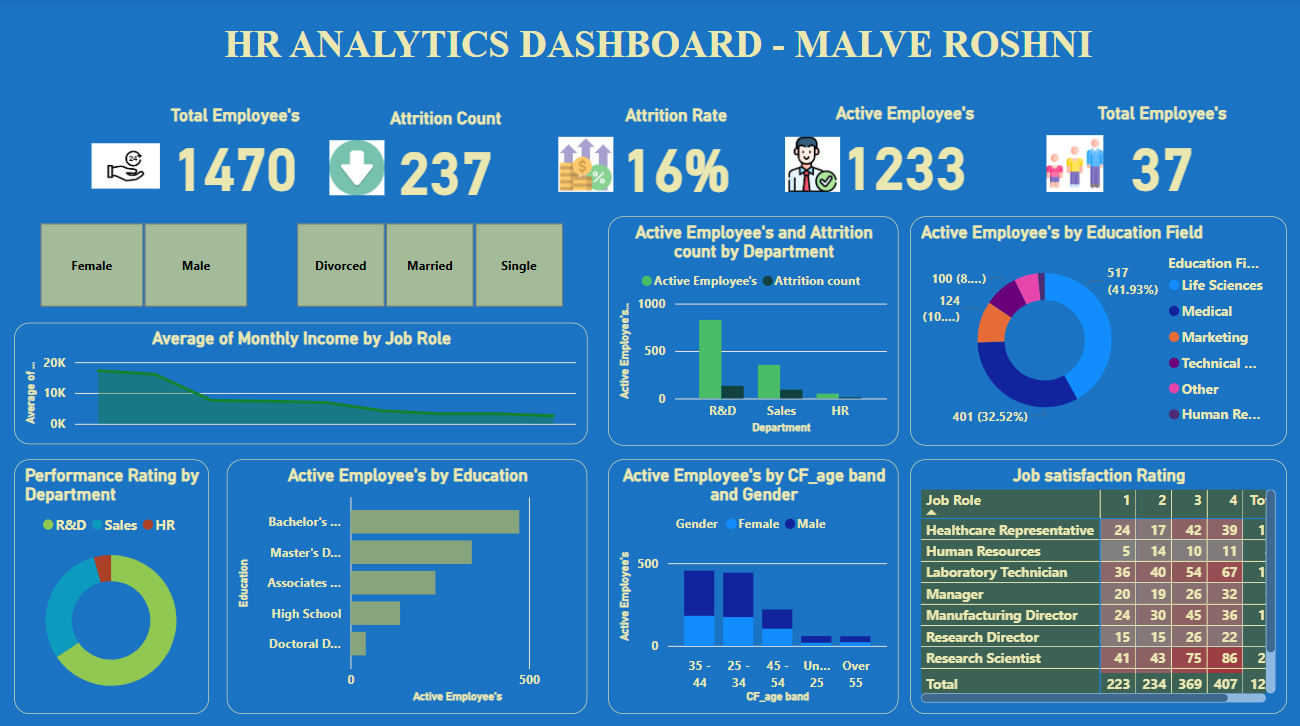

What the dashboard file says about the page in this screenshot:
{"tool":"powerbi","page":{"name":"Page 1","canvas":[1280,720],"ordinal":0},"visuals":[{"type":"card","title":"Total Employee''s","fields":{"Values":["HR data.Total Employee's"]},"box":[138.5,105.7,184.9,93.4],"z":0,"group":"g1"},{"type":"clusteredColumnChart","fields":{"Y":["HR data.Active Employee's","HR data.Attrition count"],"Category":["HR data.Department"]},"box":[597,214.7,284.6,224.3],"z":0},{"type":"card","title":"Attrition Count","fields":{"Values":["HR data.Attrition count"]},"box":[348.6,108.4,177.5,95.3],"z":1000,"group":"g1"},{"type":"donutChart","fields":{"Y":["HR data.Active Employee's"],"Category":["HR data.Education Field"]},"box":[892.5,214.7,369,224.3],"z":1000},{"type":"card","title":"Total Employee''s","fields":{"Values":["Avg(HR data.Age)"]},"box":[1046.3,103.9,186,96.1],"z":2000,"group":"g1"},{"type":"columnChart","fields":{"Y":["HR data.Active Employee's"],"Category":["HR data.CF_age band"],"Series":["HR data.Gender"]},"box":[597,453.5,284.6,249.6],"z":2000},{"type":"card","title":"Active Employee''s","fields":{"Values":["HR data.Active Employee's"]},"box":[795.1,103.9,184.7,94.9],"z":3000,"group":"g1"},{"type":"pivotTable","title":"Job satisfaction Rating","fields":{"Values":["HR data.Active Employee's"],"Rows":["HR data.Job Role"],"Columns":["HR data.Job Satisfaction"]},"box":[892.5,453.5,369,249.6],"z":3000},{"type":"card","title":"Attrition Rate","fields":{"Values":["HR data.Attrition Rate"]},"box":[558.9,105.9,209.2,95.3],"z":4000,"group":"g1"},{"type":"donutChart","title":"Performance Rating by Department","fields":{"Y":["Sum(HR data.Performance Rating)"],"Category":["HR data.Department"]},"box":[14.5,453.5,190.6,249.6],"z":4000},{"type":"clusteredBarChart","fields":{"Y":["HR data.Active Employee's"],"Category":["HR data.Education"]},"box":[223.1,453.5,353.4,249.6],"z":5000},{"type":"areaChart","fields":{"Category":["HR data.Job Role"],"Y":["Avg(HR data.Monthly Income)"]},"box":[14.5,319.6,562,119.4],"z":6000},{"type":"slicer","fields":{"Values":["HR data.Gender"]},"box":[14.5,214.7,252.1,95.3],"z":7000},{"type":"slicer","fields":{"Values":["HR data.Marital Status"]},"box":[266.5,214.7,309.9,95.3],"z":8000},{"type":"group","id":"g1","title":"Group 1","box":[138.5,103.9,1093.8,99.7],"z":9000},{"type":"image","box":[85.9,127,76.6,76.6],"z":10000},{"type":"image","box":[312,136.4,76.6,63.5],"z":11000},{"type":"image","box":[538,132.6,74.7,63.5],"z":12000},{"type":"image","box":[758.4,132.6,76.6,63.5],"z":13000},{"type":"image","box":[1016.2,130.8,74.7,65.4],"z":14000},{"type":"textbox","box":[28.9,20.5,1232.6,60.3],"z":15000}]}

Visuals, with their boxes in screenshot pixels (x1, y1, x2, y2), scaled from the page's 1280x720 canvas onto the 1300x726 screenshot:
"Total Employee''s" card: [141,107,328,201]
clusteredColumnChart - HR data.Active Employee's x HR data.Attrition count: [606,216,895,443]
"Attrition Count" card: [354,109,534,205]
donutChart - HR data.Active Employee's x HR data.Education Field: [906,216,1281,443]
"Total Employee''s" card: [1063,105,1252,202]
columnChart - HR data.Active Employee's x HR data.CF_age band: [606,457,895,709]
"Active Employee''s" card: [808,105,995,200]
"Job satisfaction Rating" pivotTable: [906,457,1281,709]
"Attrition Rate" card: [568,107,780,203]
"Performance Rating by Department" donutChart: [15,457,208,709]
clusteredBarChart - HR data.Active Employee's x HR data.Education: [227,457,586,709]
areaChart - HR data.Job Role x Avg(HR data.Monthly Income): [15,322,586,443]
slicer - HR data.Gender: [15,216,271,313]
slicer - HR data.Marital Status: [271,216,585,313]
"Group 1" group: [141,105,1252,205]
image: [87,128,165,205]
image: [317,138,395,202]
image: [546,134,622,198]
image: [770,134,848,198]
image: [1032,132,1108,198]
textbox: [29,21,1281,81]
